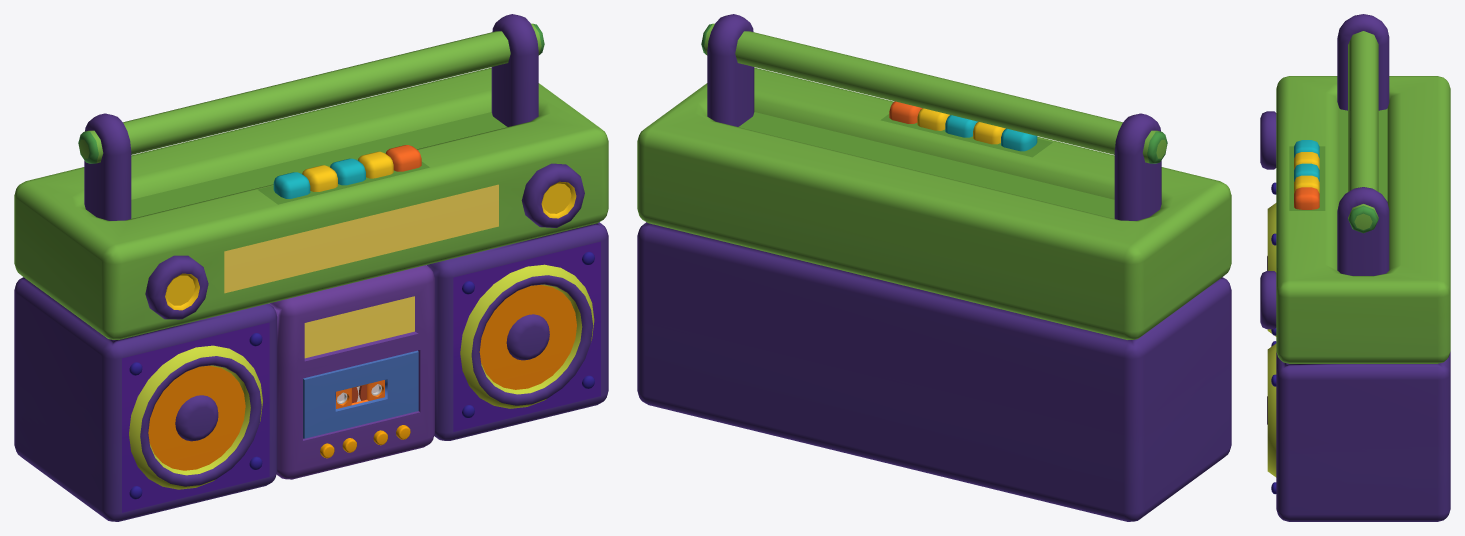
The model's file is Audio_03.glb.
3 renders of one model, left to right at view 1: azimuth 30°, elevation 25°; view 2: azimuth 150°, elevation 25°; view 3: azimuth 270°, elevation 25°, orthographic. The views are drawn at different scales.
Visible parts, largest first — view 1: Audio_03; view 2: Audio_03; view 3: Audio_03.
Part boxes in pixels (x1=…): Audio_03: x1=14, y1=14, x2=608, y2=521; Audio_03: x1=637, y1=14, x2=1231, y2=521; Audio_03: x1=1260, y1=14, x2=1450, y2=521.
Bounding box in the file's own units: 0.5815 × 0.4014 × 0.2183.
Materials: 1 (1 with a texture image).
